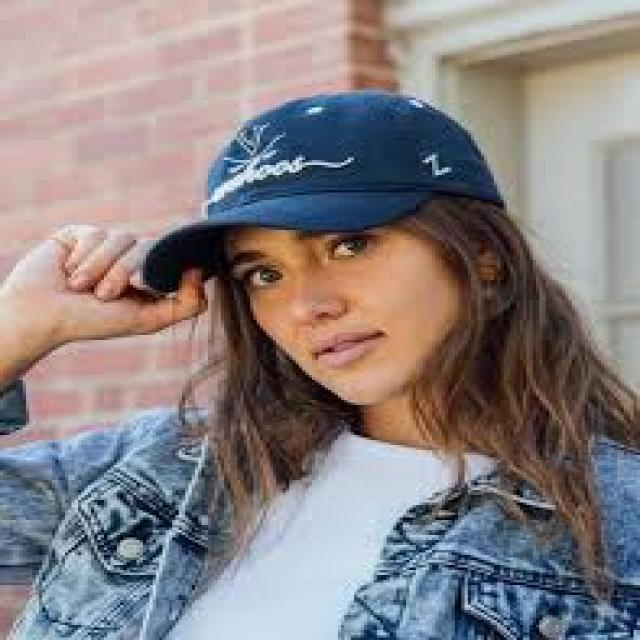cap: (116, 73, 522, 314)
